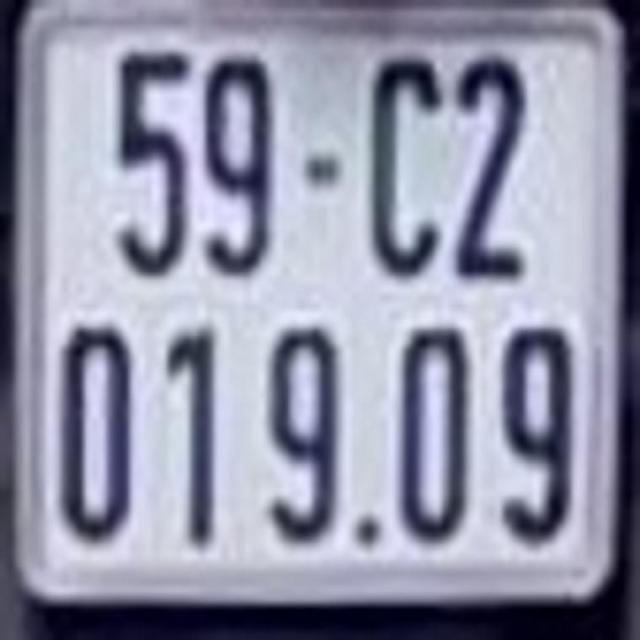0: (392, 321, 468, 544), (56, 321, 130, 537)
1: (160, 316, 222, 551)
2: (453, 46, 526, 276)
5: (114, 48, 184, 274)
9: (499, 321, 576, 545), (267, 323, 336, 543), (202, 49, 269, 274)
C: (372, 51, 440, 271)
